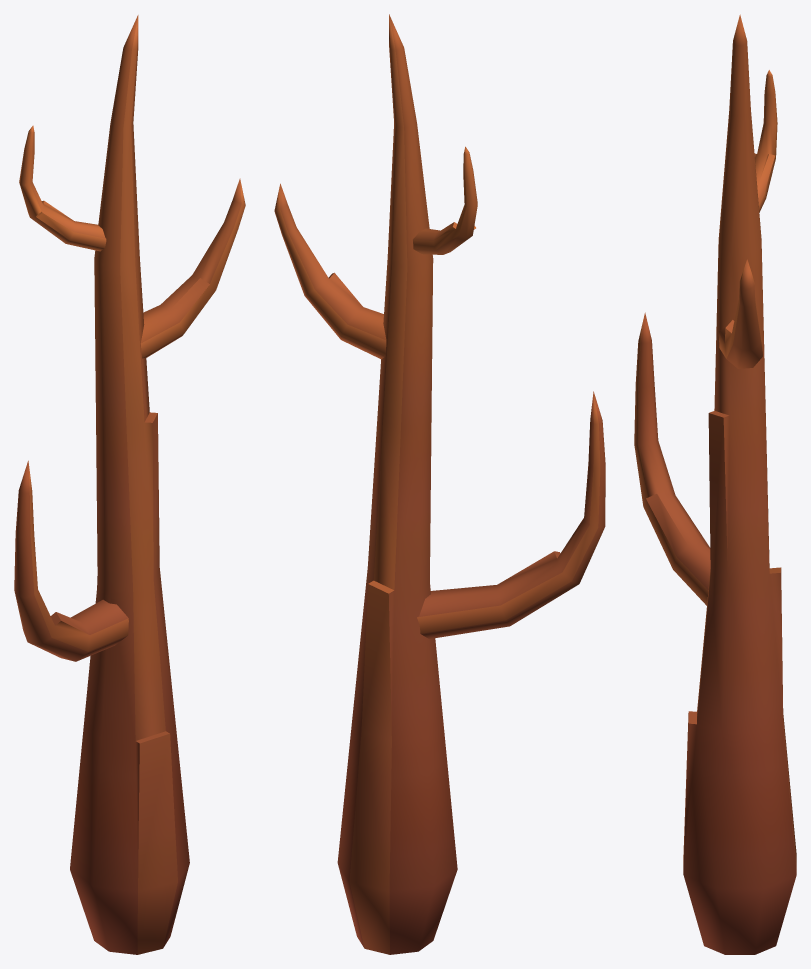
File: tree_bare_2_a_color1.glb
3 views of the same model, side by side, from view 1: azimuth 30°, elevation 25°; view 2: azimuth 150°, elevation 25°; view 3: azimuth 270°, elevation 25° (orthographic).
Visible parts, largest first — view 1: Tree_Bare_2_A_Color1; view 2: Tree_Bare_2_A_Color1; view 3: Tree_Bare_2_A_Color1.
Boxes of the visible parts, x1,y1,x2,y2 form: Tree_Bare_2_A_Color1: (14, 15, 245, 954); Tree_Bare_2_A_Color1: (274, 14, 605, 954); Tree_Bare_2_A_Color1: (634, 14, 796, 954).
Bounding box in the file's own units: 1.2 × 3.84 × 0.6.
1 material, 1 textured.
